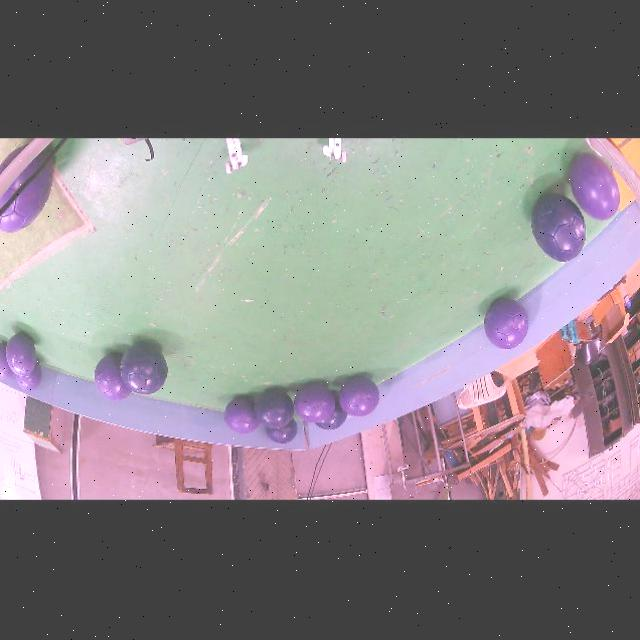B: (531, 194, 585, 261), (120, 342, 168, 394), (255, 389, 295, 428), (316, 395, 348, 429), (266, 418, 297, 443)
P: (569, 154, 619, 219), (484, 298, 529, 349), (95, 354, 131, 400), (294, 383, 335, 423), (339, 376, 379, 417), (224, 396, 260, 434), (6, 332, 37, 376), (16, 359, 42, 390), (0, 341, 13, 379)
